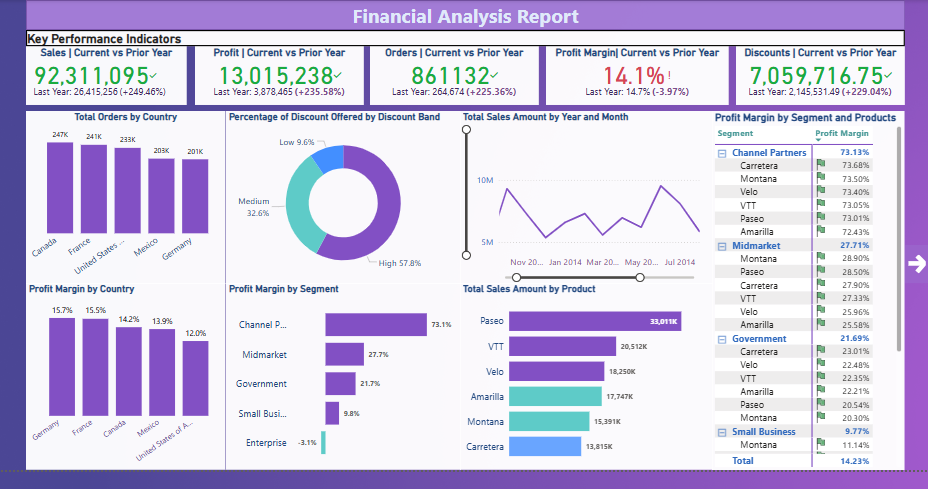

This screenshot's page, from the dashboard's own definition file:
{"tool":"powerbi","page":{"name":"analysis1","canvas":[1605,813],"ordinal":0},"visuals":[{"type":"shape","box":[44.9,0,1520.4,51.8],"z":0},{"type":"kpi","title":"Sales | Current vs Prior Year","fields":{"Indicator":["Analysis by measures.Total Sales Amount"],"TrendLine":["Date Table.Year"],"Goal":["Analysis by measures.Sales Amount LY"]},"box":[44.9,79.4,277.9,101.8],"z":1000},{"type":"kpi","title":"Profit | Current vs Prior Year","fields":{"TrendLine":["Date Table.Year"],"Goal":["Analysis by measures.Total Profit LY"],"Indicator":["Analysis by measures.Total Profit"]},"box":[336.5,79.4,291.7,101.8],"z":2000},{"type":"kpi","title":"Orders | Current vs Prior Year","fields":{"TrendLine":["Date Table.Year"],"Goal":["Analysis by measures.Orders LY"],"Indicator":["Analysis by measures.Orders"]},"box":[640.3,79.4,291.7,101.8],"z":3000},{"type":"kpi","title":"Profit Margin| Current vs Prior Year","fields":{"TrendLine":["Date Table.Year"],"Goal":["Analysis by measures.Profit Margin LY"],"Indicator":["Analysis by measures.Profit Margin"]},"box":[944,79.4,315.8,101.8],"z":4000},{"type":"kpi","title":"Discounts  | Current vs Prior Year","fields":{"TrendLine":["Date Table.Year"],"Goal":["Analysis by measures.Discounts Offered LY"],"Indicator":["Analysis by measures.Discounts Offered"]},"box":[1273.6,79.4,291.7,101.8],"z":5000},{"type":"columnChart","fields":{"Category":["financials.Country"],"Y":["Analysis by measures.Orders"]},"box":[44.9,191.6,345.2,298.6],"z":6000},{"type":"clusteredColumnChart","fields":{"Category":["financials.Country"],"Y":["Analysis by measures.Profit Margin"]},"box":[44.9,490.1,345.2,322.7],"z":7000},{"type":"donutChart","title":"Percentage of Discount Offered by Discount Band","fields":{"Y":["Analysis by measures.Discounts Offered"],"Category":["financials.Discount Band"]},"box":[390,191.6,405.6,298.6],"z":8000},{"type":"barChart","fields":{"Category":["financials.Segment"],"Y":["Analysis by measures.Profit Margin"]},"box":[390,490.1,405.6,322.7],"z":9000},{"type":"lineChart","fields":{"Category":["Date Table.Date.Variation.Date Hierarchy.Year","Date Table.Date.Variation.Date Hierarchy.Month"],"Y":["Analysis by measures.Total Sales Amount"]},"box":[795.6,191.6,436.6,298.6],"z":10000},{"type":"barChart","fields":{"Y":["Analysis by measures.Total Sales Amount"],"Category":["financials.Product"]},"box":[795.6,490.1,436.6,322.7],"z":11000},{"type":"pivotTable","title":"Profit Margin by Segment and Products","fields":{"Rows":["financials.Segment","financials.Product"],"Values":["Analysis by measures.Profit Margin"]},"box":[1232.2,191.6,333.1,621.3],"z":12000},{"type":"shape","title":"Key Performance Indicators","box":[45,51.9,1520.3,27.7],"z":13000},{"type":"actionButton","box":[1565.3,424.5,39.7,65.6],"z":14000}]}

Visuals, with their boxes on the page's 1605x813 design canvas (x1, y1, x2, y2). These are canvas units, not pixel positions in the 928x489 screenshot, which may show the page scaled, cropped or inside an application window:
shape: box=[45, 0, 1565, 52]
"Sales | Current vs Prior Year" kpi: box=[45, 79, 323, 181]
"Profit | Current vs Prior Year" kpi: box=[336, 79, 628, 181]
"Orders | Current vs Prior Year" kpi: box=[640, 79, 932, 181]
"Profit Margin| Current vs Prior Year" kpi: box=[944, 79, 1260, 181]
"Discounts  | Current vs Prior Year" kpi: box=[1274, 79, 1565, 181]
columnChart - financials.Country x Analysis by measures.Orders: box=[45, 192, 390, 490]
clusteredColumnChart - financials.Country x Analysis by measures.Profit Margin: box=[45, 490, 390, 813]
"Percentage of Discount Offered by Discount Band" donutChart: box=[390, 192, 796, 490]
barChart - financials.Segment x Analysis by measures.Profit Margin: box=[390, 490, 796, 813]
lineChart - Date Table.Date.Variation.Date Hierarchy.Year x Date Table.Date.Variation.Date Hierarchy.Month: box=[796, 192, 1232, 490]
barChart - Analysis by measures.Total Sales Amount x financials.Product: box=[796, 490, 1232, 813]
"Profit Margin by Segment and Products" pivotTable: box=[1232, 192, 1565, 813]
"Key Performance Indicators" shape: box=[45, 52, 1565, 80]
actionButton: box=[1565, 424, 1605, 490]
